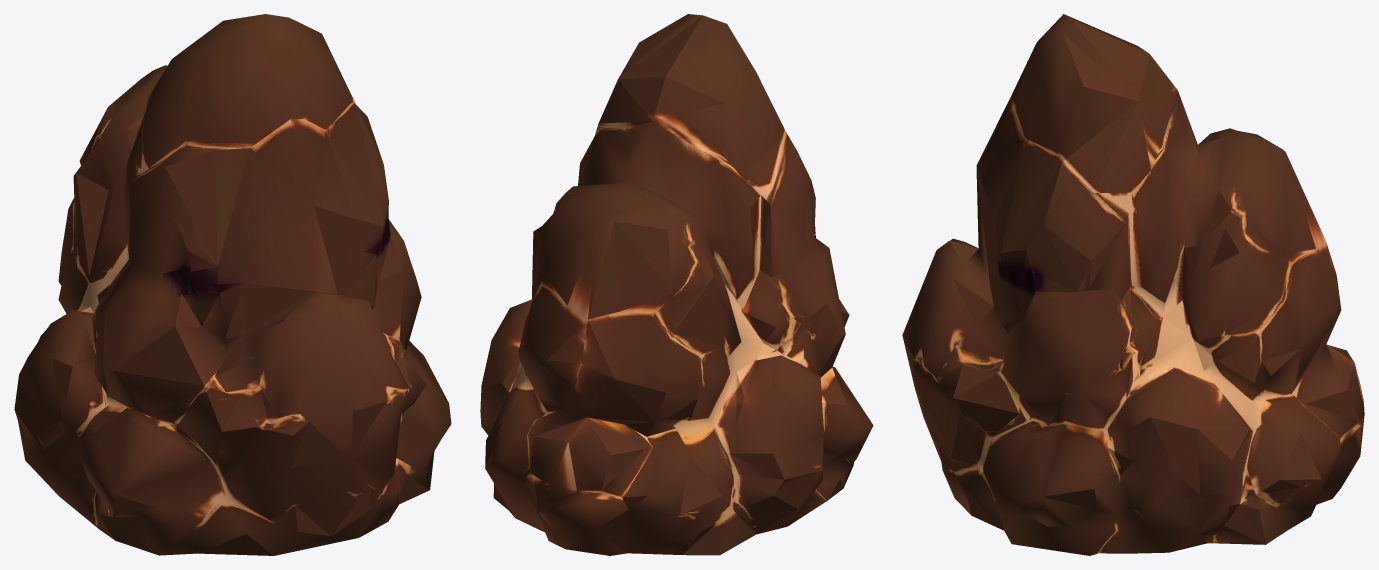
Rendered from mine.fbx.
3 views of the same model, side by side, from view 1: azimuth 30°, elevation 25°; view 2: azimuth 150°, elevation 25°; view 3: azimuth 270°, elevation 25° (orthographic). The views are drawn at different scales.
Parts seen in each view (by area): view 1: tripo_node_b7c6e6bc; view 2: tripo_node_b7c6e6bc; view 3: tripo_node_b7c6e6bc.
Part boxes in pixels (box(x1,y1,x2,y2)): tripo_node_b7c6e6bc: box(14, 14, 451, 555); tripo_node_b7c6e6bc: box(480, 14, 873, 555); tripo_node_b7c6e6bc: box(902, 14, 1364, 555).
Bounding box in the file's own units: 75.27 × 100 × 89.67.
1 material, 1 textured.
